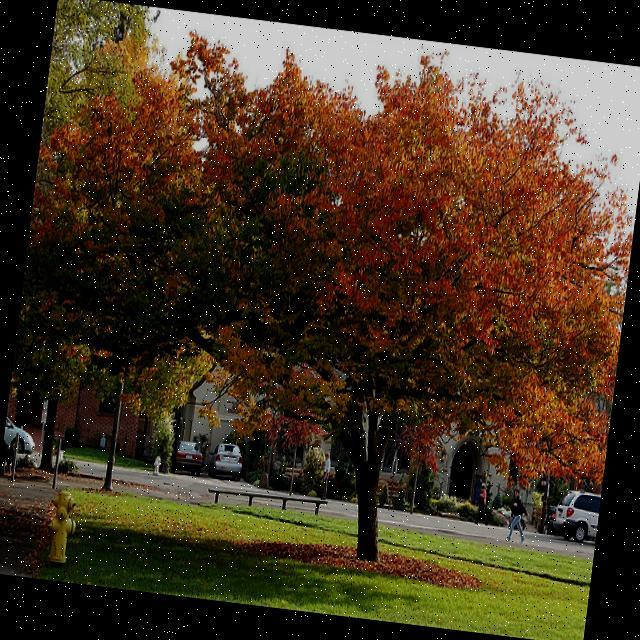fire_hydrant: (42, 490, 78, 560), (151, 454, 161, 474)
